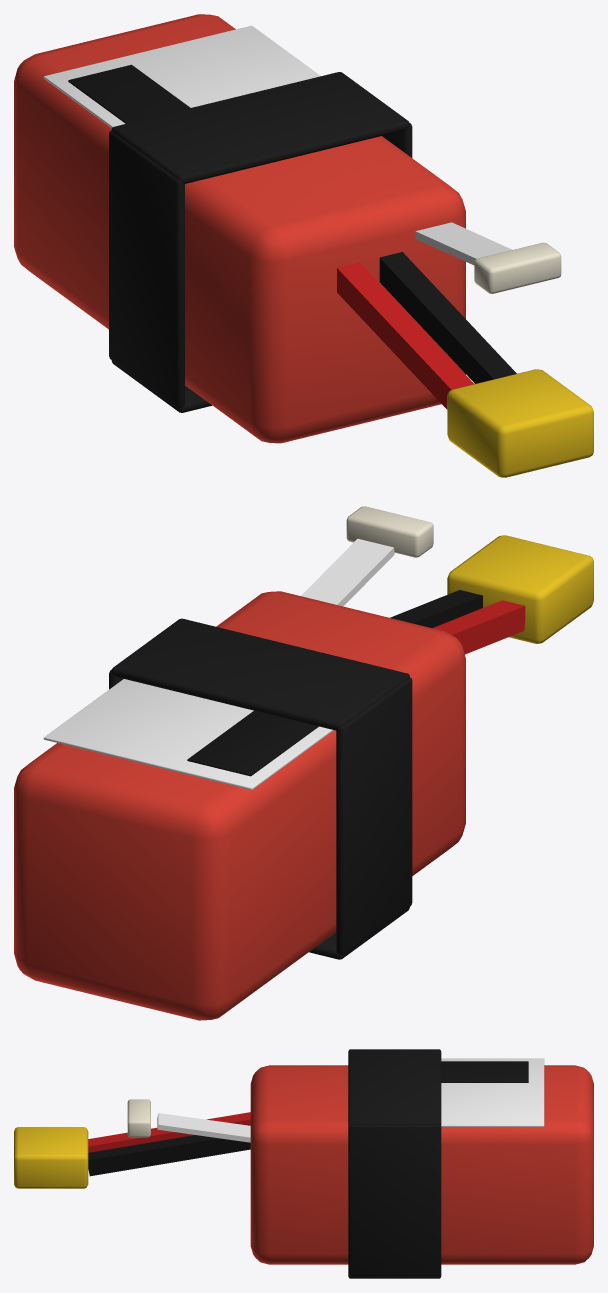
Rendered from batt_4s1300.glb.
3 renders of one model, top to bottom at view 1: azimuth 30°, elevation 25°; view 2: azimuth 150°, elevation 25°; view 3: azimuth 270°, elevation 25°, orthographic. The views are drawn at different scales.
Parts seen in each view (by area): view 1: batt_4s1300_M_Wrap_4s1300, batt_4s1300_M_Strap, batt_4s1300_M_Label, batt_4s1300_M_XT60, batt_4s1300_M_WireBlack, batt_4s1300_M_WireRed, batt_4s1300_M_Connector; view 2: batt_4s1300_M_Wrap_4s1300, batt_4s1300_M_Strap, batt_4s1300_M_Label, batt_4s1300_M_XT60, batt_4s1300_M_WireBlack, batt_4s1300_M_Connector, batt_4s1300_M_WireRed; view 3: batt_4s1300_M_Wrap_4s1300, batt_4s1300_M_Strap, batt_4s1300_M_Label, batt_4s1300_M_WireBlack, batt_4s1300_M_XT60, batt_4s1300_M_WireRed, batt_4s1300_M_Connector.
Boxes of the visible parts, left/top/right/bottom form: batt_4s1300_M_Wrap_4s1300: left=14, top=14, right=465, bottom=443; batt_4s1300_M_Strap: left=109, top=72, right=412, bottom=412; batt_4s1300_M_Label: left=43, top=25, right=512, bottom=265; batt_4s1300_M_XT60: left=447, top=369, right=593, bottom=477; batt_4s1300_M_WireBlack: left=68, top=64, right=516, bottom=383; batt_4s1300_M_WireRed: left=337, top=262, right=474, bottom=409; batt_4s1300_M_Connector: left=474, top=242, right=561, bottom=293; batt_4s1300_M_Wrap_4s1300: left=14, top=591, right=465, bottom=1020; batt_4s1300_M_Strap: left=109, top=618, right=412, bottom=959; batt_4s1300_M_Label: left=43, top=538, right=394, bottom=790; batt_4s1300_M_XT60: left=447, top=535, right=593, bottom=643; batt_4s1300_M_WireBlack: left=187, top=590, right=482, bottom=776; batt_4s1300_M_Connector: left=346, top=506, right=433, bottom=557; batt_4s1300_M_WireRed: left=432, top=600, right=525, bottom=654; batt_4s1300_M_Wrap_4s1300: left=250, top=1065, right=593, bottom=1264; batt_4s1300_M_Strap: left=348, top=1049, right=441, bottom=1278; batt_4s1300_M_Label: left=157, top=1058, right=544, bottom=1142; batt_4s1300_M_WireBlack: left=88, top=1061, right=528, bottom=1176; batt_4s1300_M_XT60: left=14, top=1127, right=88, bottom=1188; batt_4s1300_M_WireRed: left=88, top=1112, right=250, bottom=1152; batt_4s1300_M_Connector: left=127, top=1099, right=150, bottom=1137.
Bounding box in the file's own units: 0.0388 × 0.0373 × 0.125.
